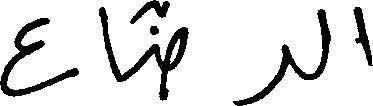X: (0, 13, 78, 101), (235, 39, 289, 105), (166, 0, 188, 104), (99, 2, 119, 86), (353, 2, 372, 70), (317, 4, 330, 82), (149, 0, 158, 70)
